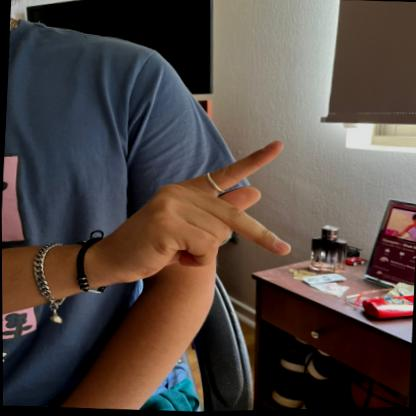K: (116, 119, 304, 287)
